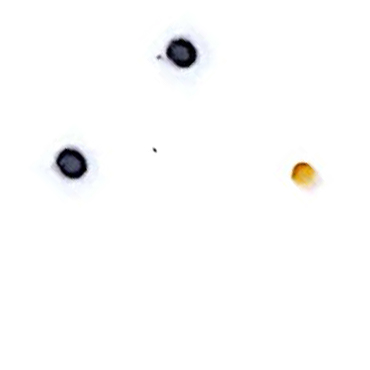cancer: (33, 126, 112, 199), (142, 19, 224, 88)
normal: (278, 149, 331, 200)
